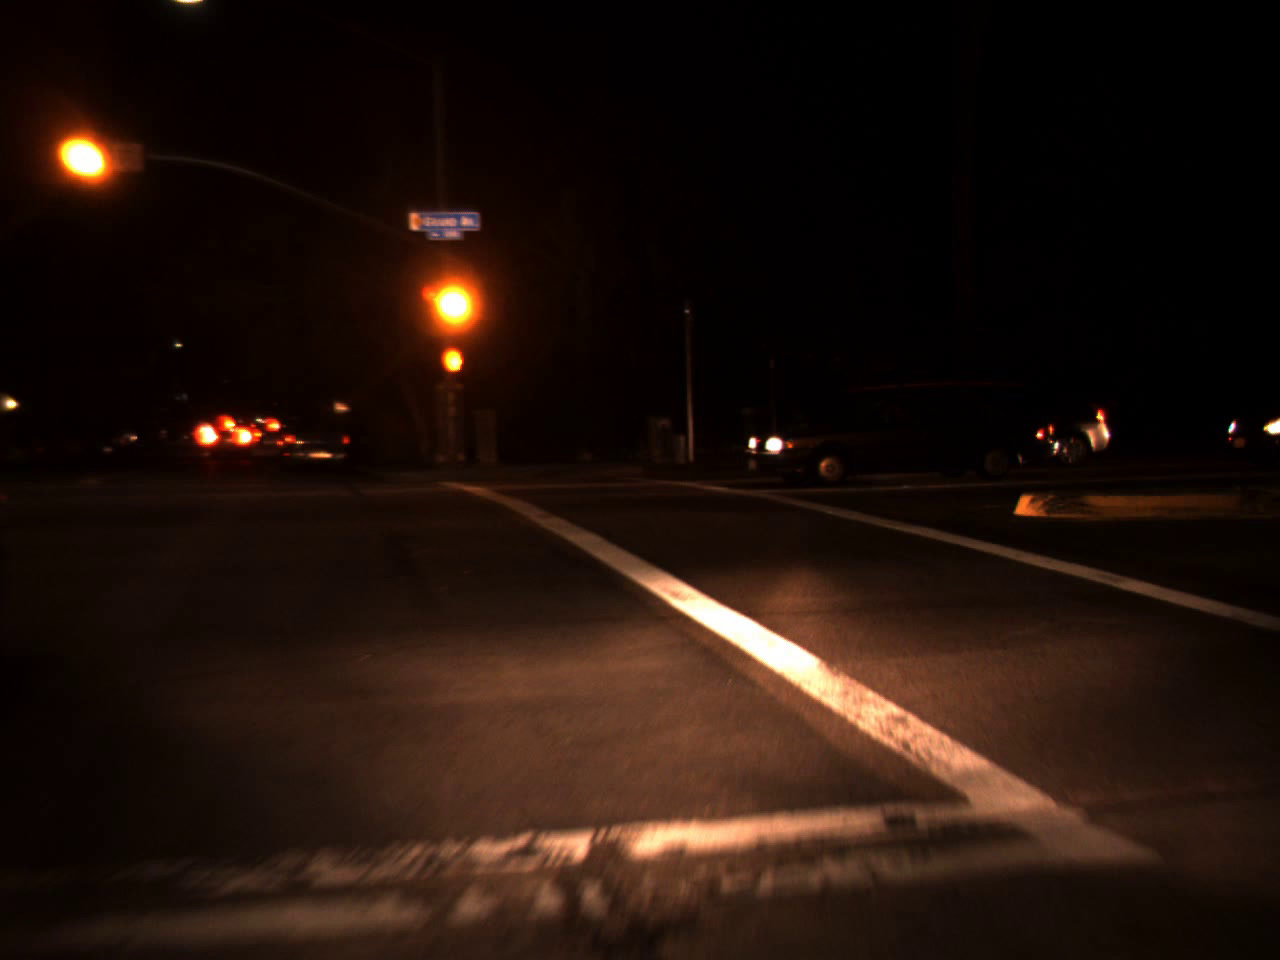warning: (63, 128, 106, 185), (435, 274, 475, 331)
